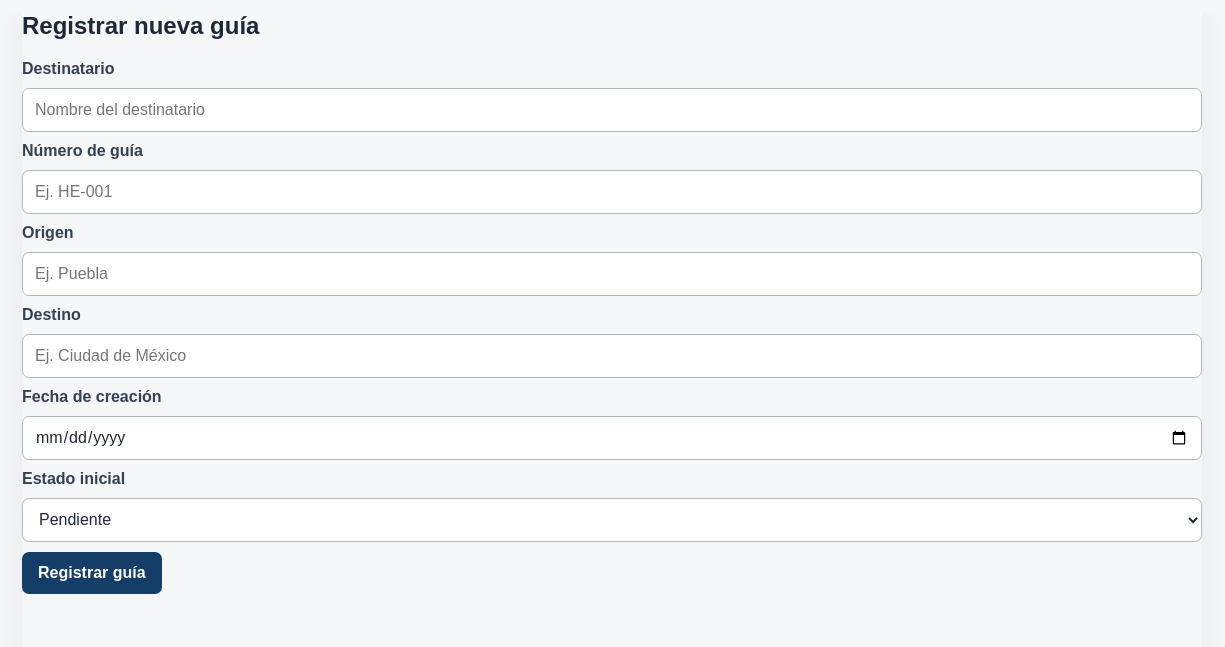
Test case: GuideForm › muestra un error y no registra si faltan campos
This screenshot has width=1225, height=647.
Type "Juan Pérez" into the field with placeholder "Nombre del destinatario" at (612,110), box [22, 88, 1202, 132]
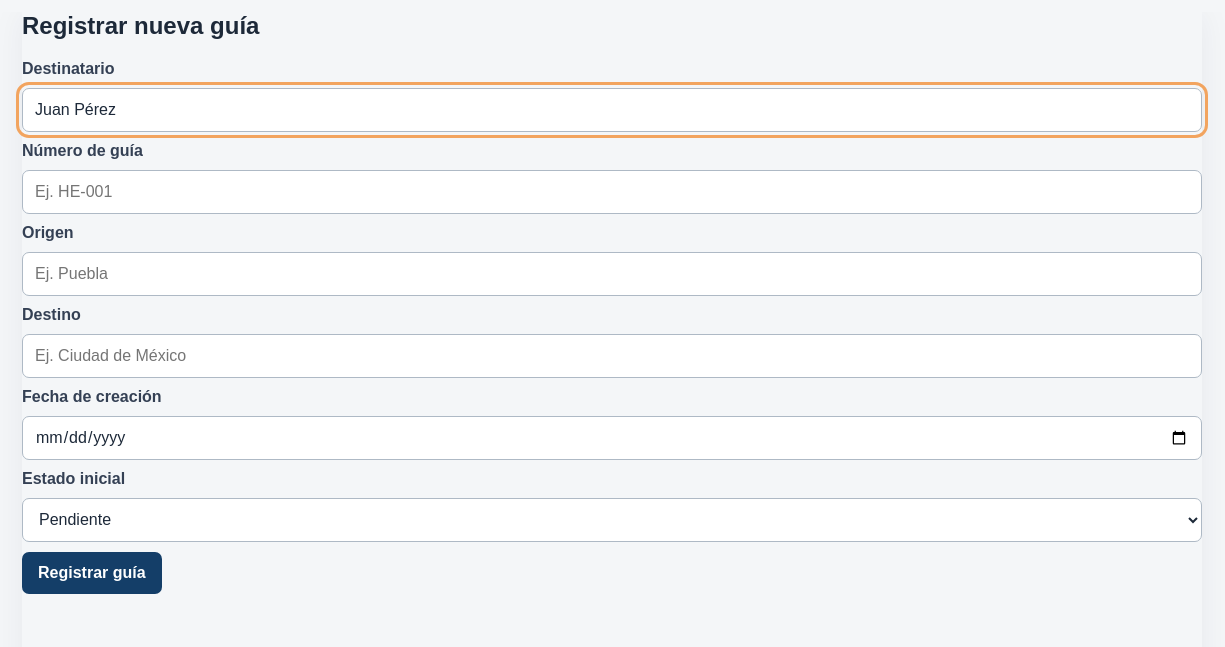
Click the button "Registrar guía" at (92,573), box [22, 552, 162, 594]
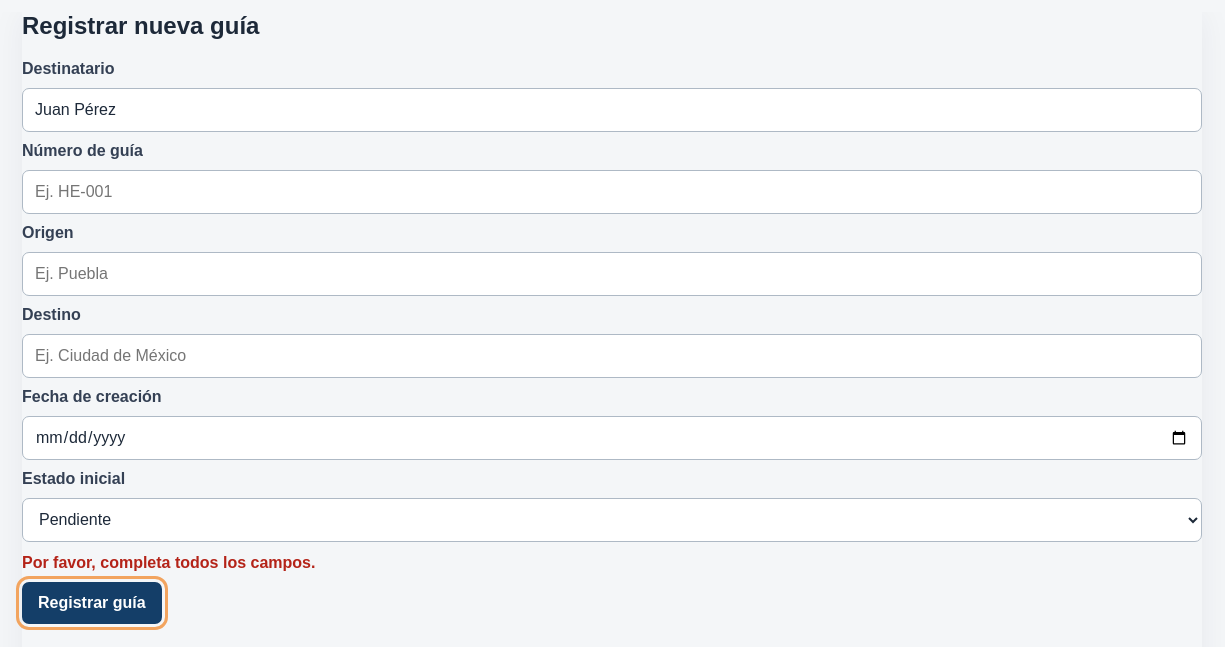
Result: the text "Por favor, completa todos los campos." is shown at [22, 554, 315, 571]
